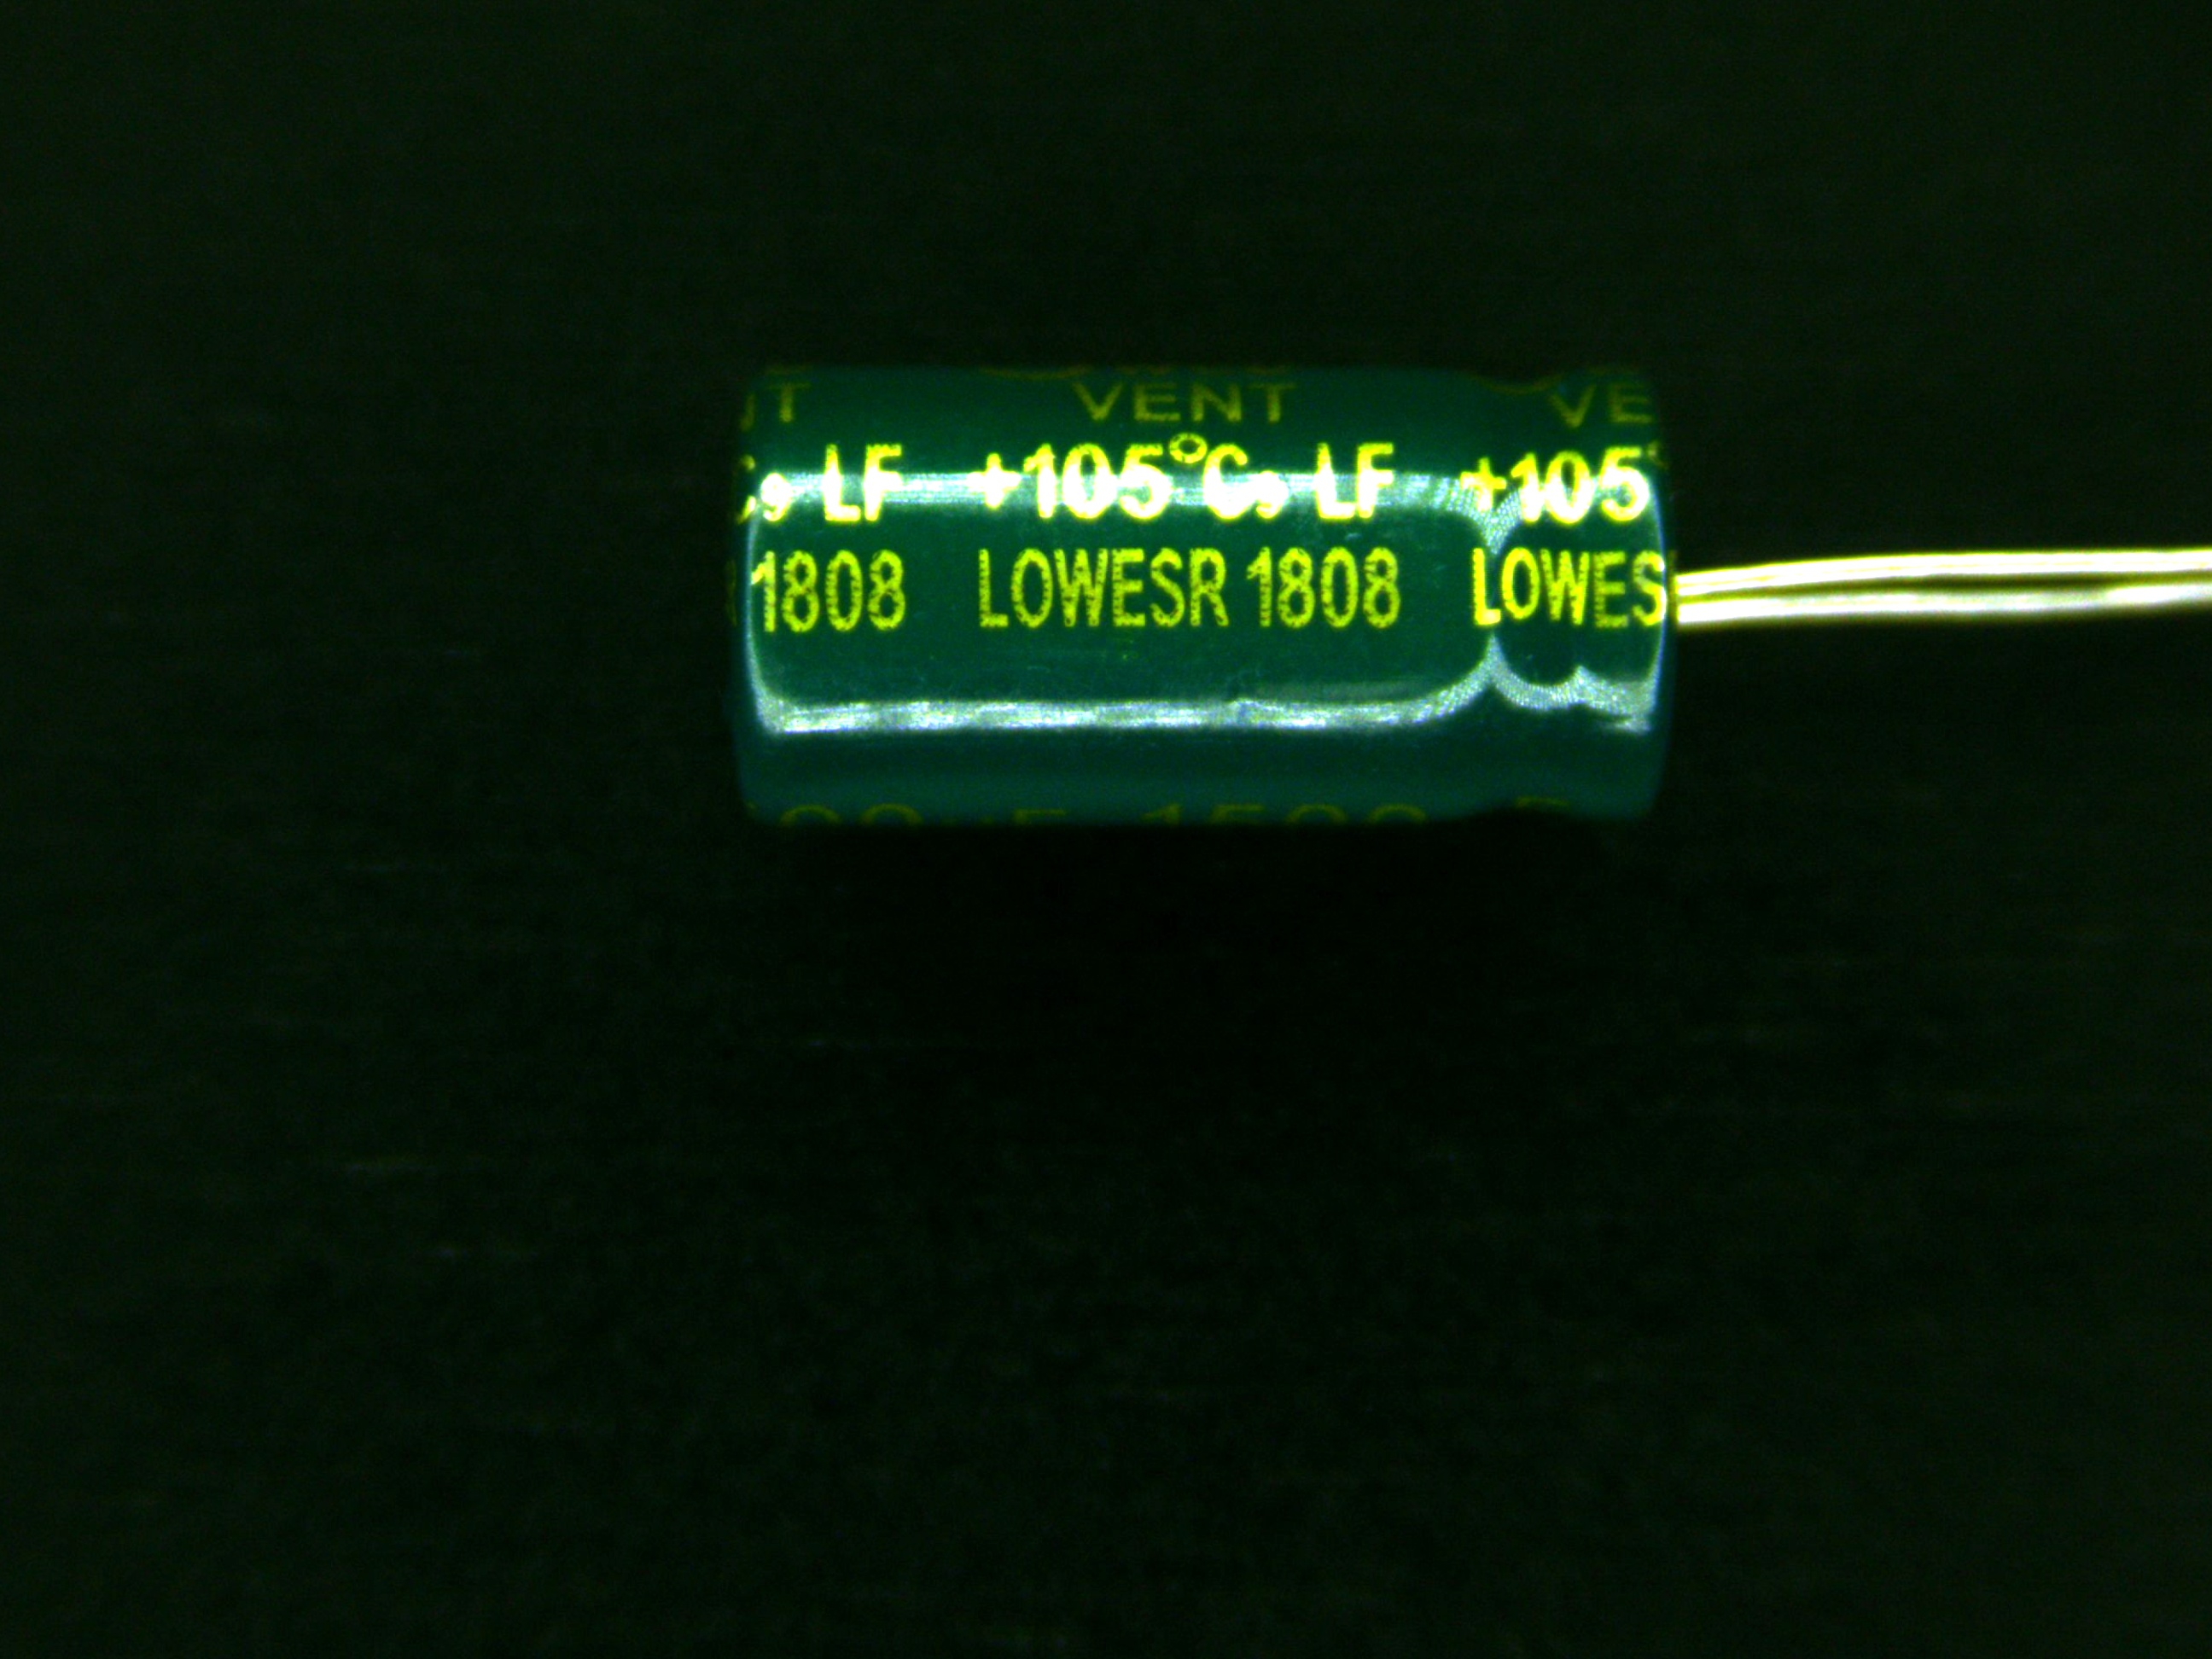c1: (721, 380, 1780, 835)
